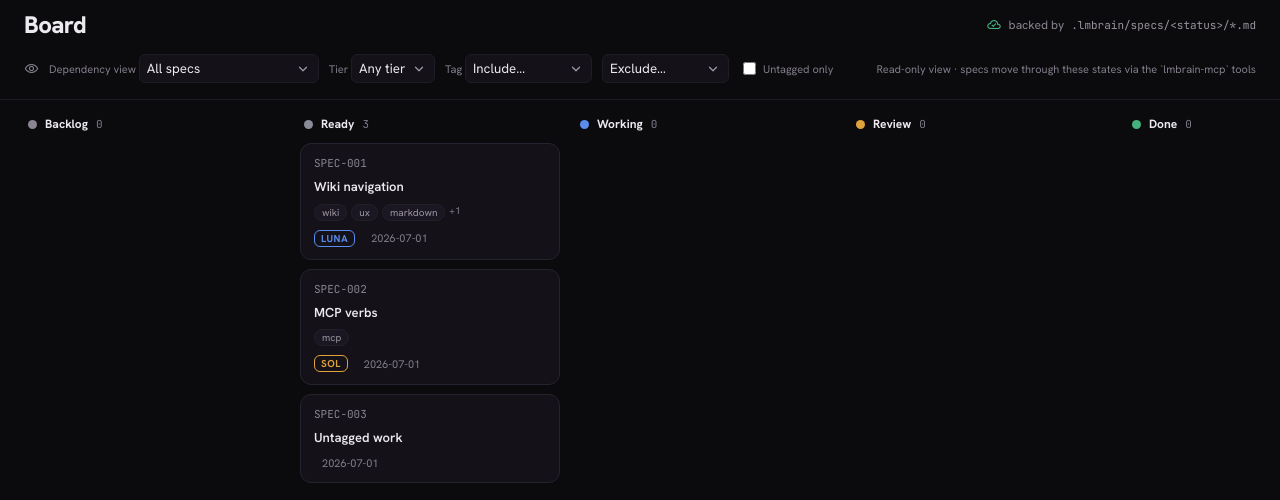
Test: Board tags and effort tiers › removes an active tag filter from its chip
Select "wiki" in the dropdown named "Add tag filter": point(528, 68) [465, 54, 592, 83]
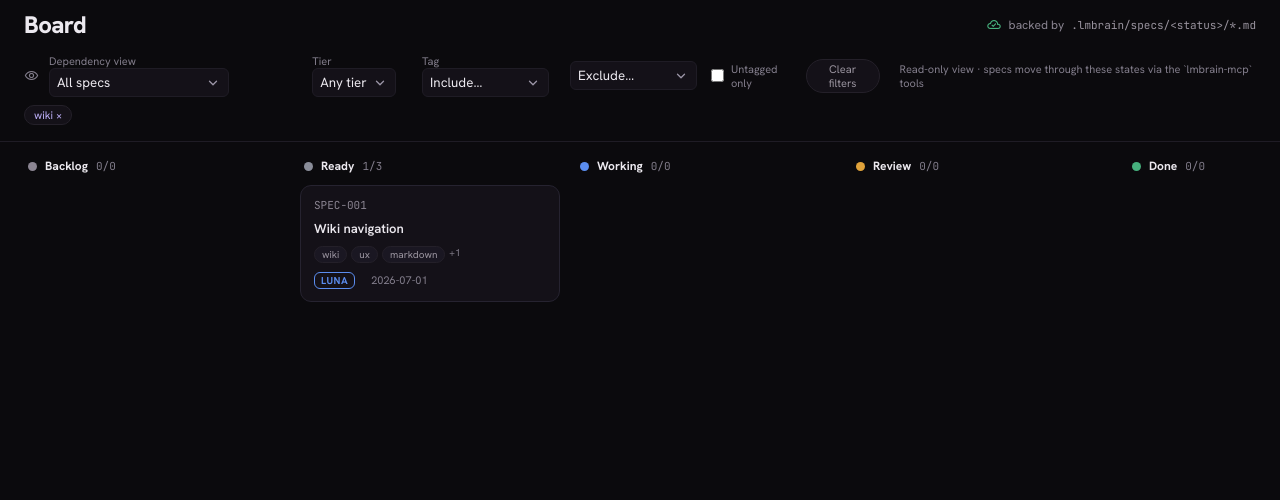
Click the button with aria-label "Remove include filter wiki": point(48, 115) [24, 105, 72, 125]
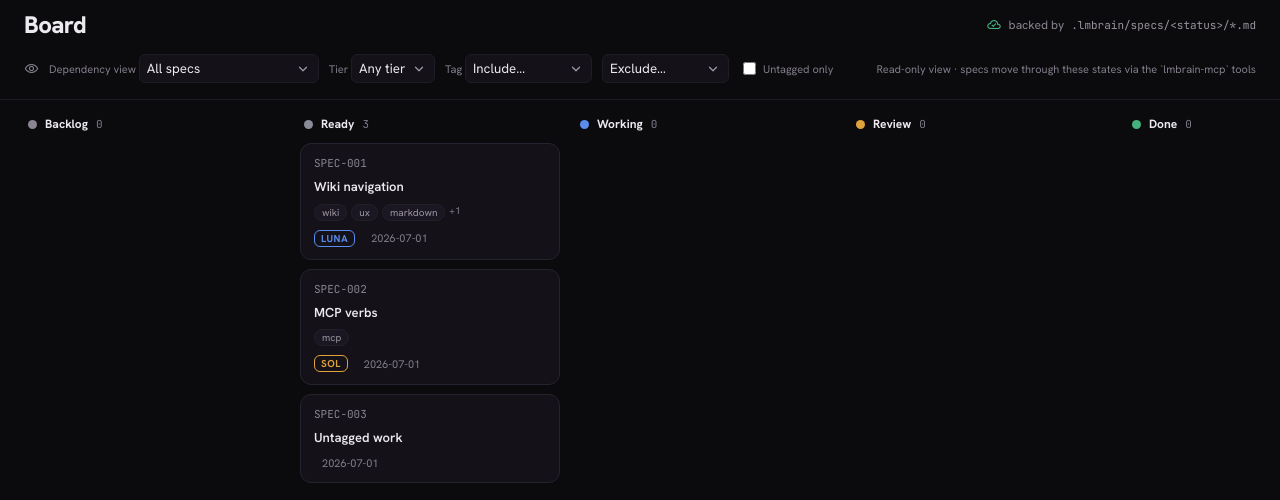
Expected: the text "MCP verbs" is shown, [314, 304, 378, 321]
